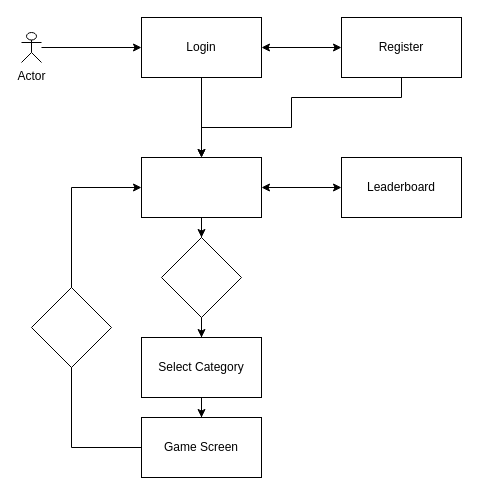
The diagram is 479 pixels wide and 495 high, and some of its shapes have lost their labels. The shapes that lost their labels are listed below. From the top down, each one's centre as x and y in pixels, then its label:
(201,187): Home
(201,277): start game
(71,327): end game
